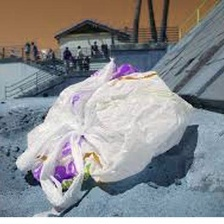plastic_bag: (11, 54, 204, 214)
